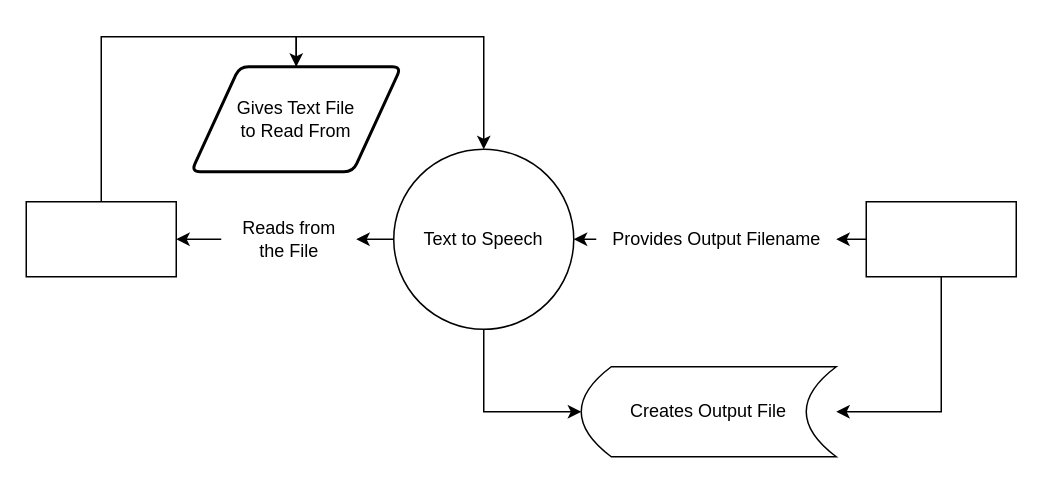
Some shapes in this 1043 by 483 pixel diagram are drawn without their labels. Here are the shapes that lost their labels. From the top down, the centre of each, then its label:
At point 100,238: "File".
At point 940,238: "Keyboard".
